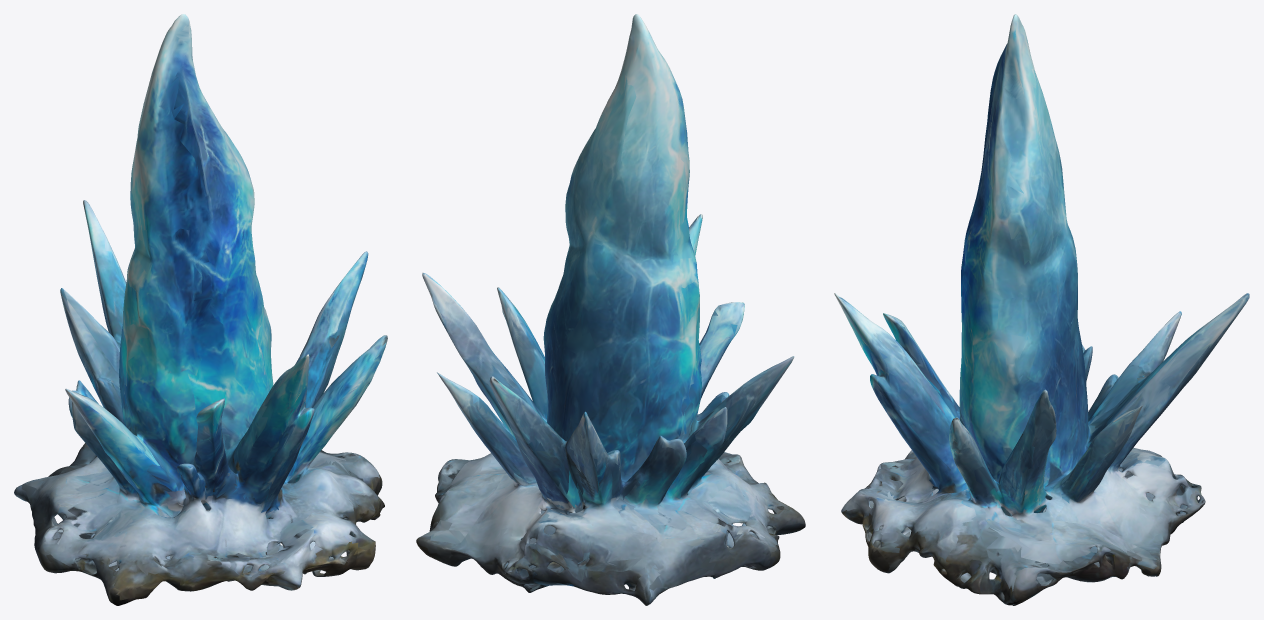
Rendered from icecluster.glb.
3 renders of one model, left to right at view 1: azimuth 30°, elevation 25°; view 2: azimuth 150°, elevation 25°; view 3: azimuth 270°, elevation 25°, orthographic. The views are drawn at different scales.
Visible parts, largest first — view 1: Object_2; view 2: Object_2; view 3: Object_2.
Boxes of the visible parts, bbox=[...] form: Object_2: bbox=[14, 14, 387, 605]; Object_2: bbox=[416, 14, 805, 605]; Object_2: bbox=[834, 14, 1249, 605].
Size of the model in its own units: 1.52 by 2.29 by 1.68.
Materials: 1 (1 with a texture image).
